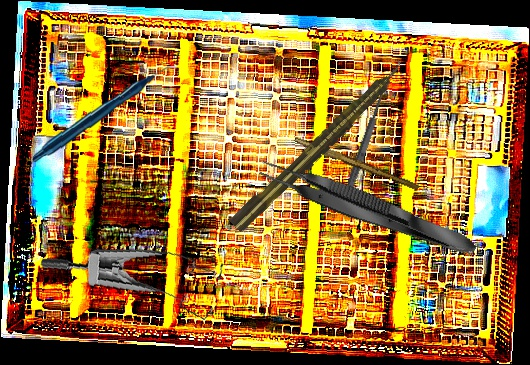Handpiece: (227, 56, 411, 235), (33, 61, 177, 167)
Scalpel Handle: (292, 136, 421, 192)
Speculum: (39, 228, 232, 345)
Surgical Spoon: (337, 78, 392, 213)
Tissue Forceps: (254, 151, 482, 266)
